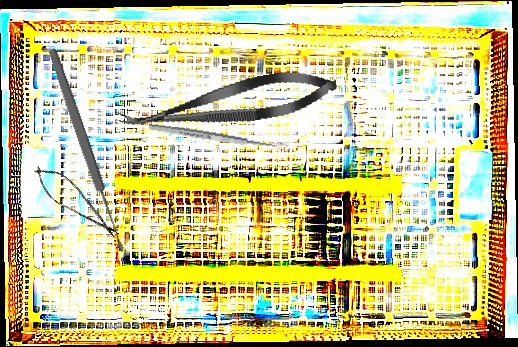Micro Scissor: (115, 63, 341, 144), (27, 158, 126, 246)
Surgical Spoon: (45, 45, 128, 256), (148, 122, 289, 153)
